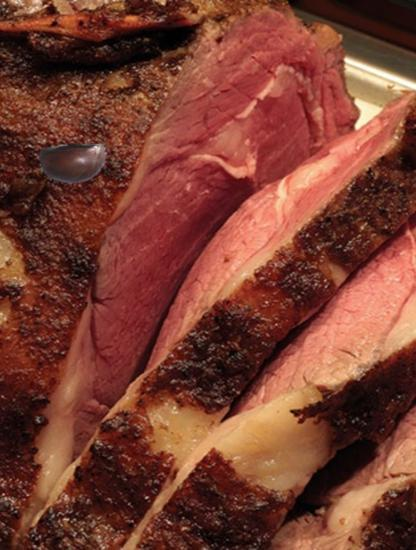Chestnut: (38, 129, 108, 199)
